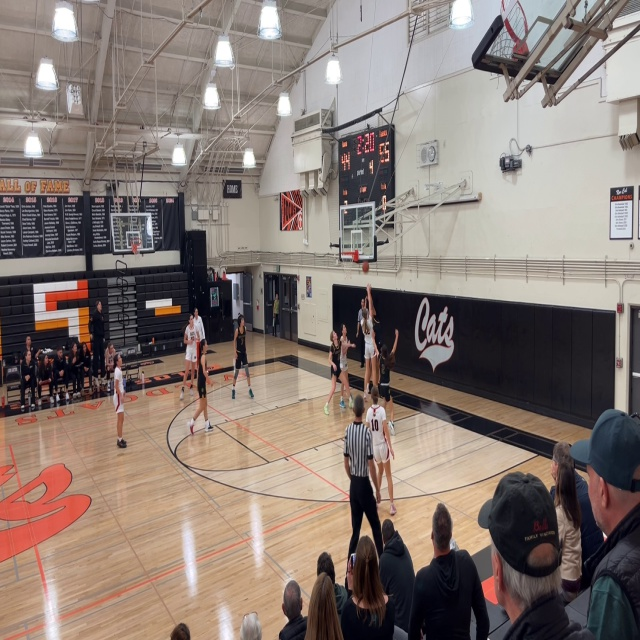Basketball: (362, 262, 368, 272)
